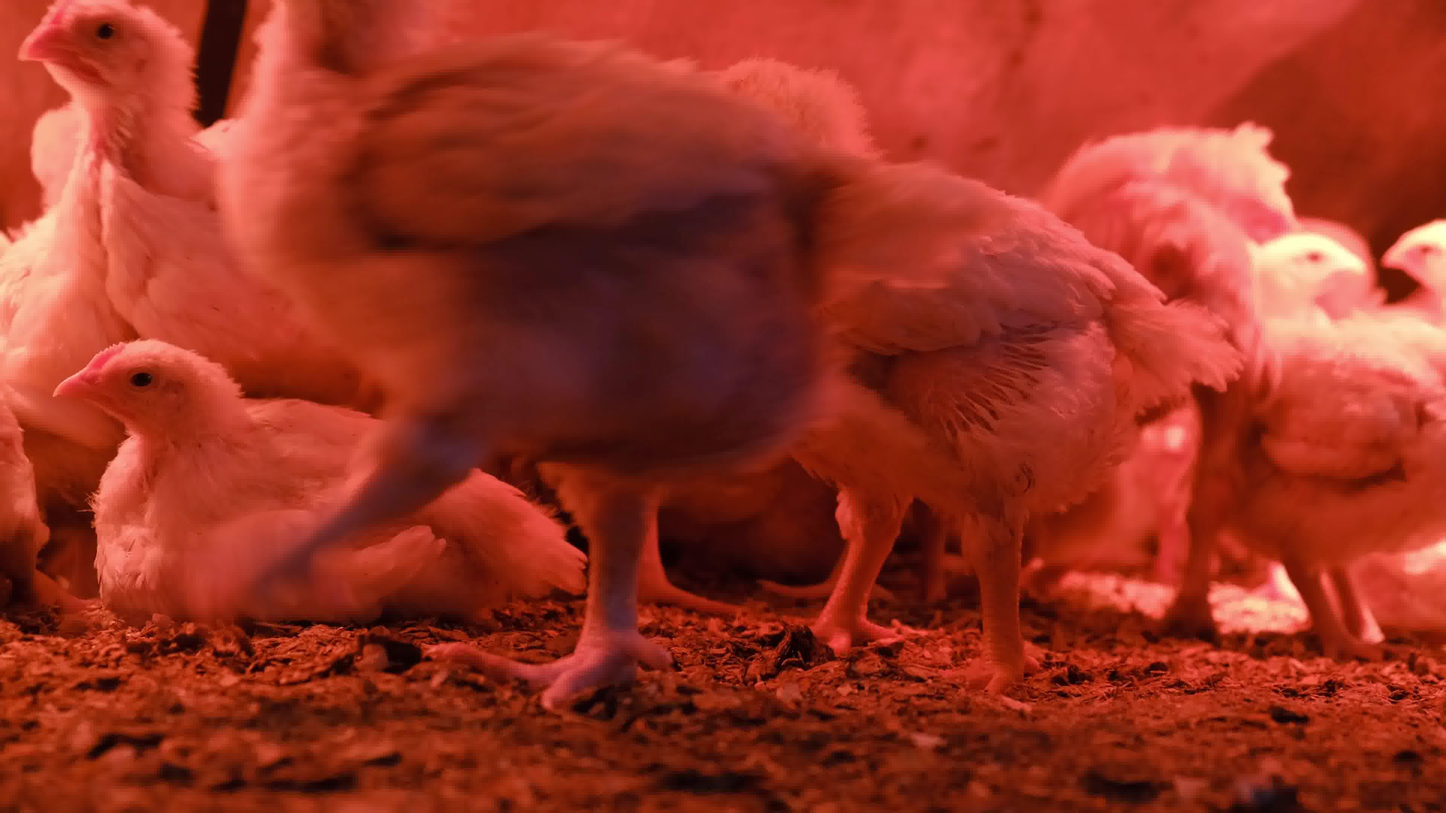AbNormal: (55, 339, 591, 619), (0, 369, 60, 622)
Normal: (228, 0, 847, 715), (706, 57, 1225, 682), (19, 0, 399, 405), (1058, 113, 1284, 634), (1225, 312, 1446, 659), (1251, 232, 1369, 319), (1382, 217, 1446, 306)
